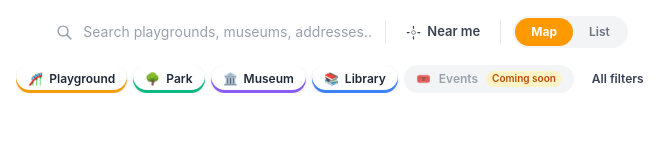
Test: SearchField combobox keyboard navigation (#482) › ArrowDown reopens a closed-but-populated dropdown
Type "first" into the dropdown with placeholder "Search playgrounds, museums, addresses…" at (228,32), box [83,22,373,42]
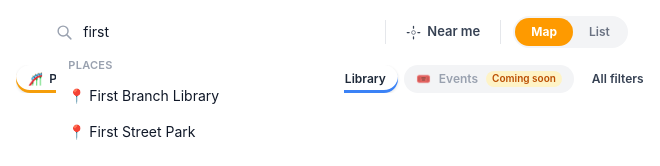
Expected: the list is shown, [56,50,344,150]
Press Escape in the dropdown with placeholder "Search playgrounds, museums, addresses…", box [83,22,373,42]
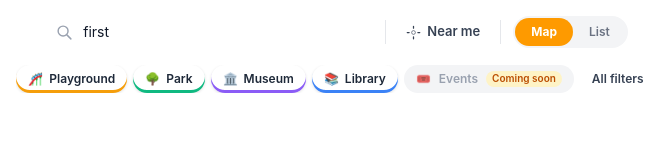
Expected: the list is gone
Press ArrowDown in the dropdown with placeholder "Search playgrounds, museums, addresses…", box [83,22,373,42]
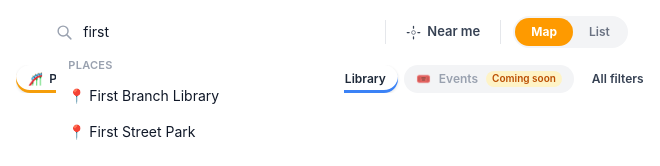
Expected: the list is shown, [56,50,344,150]
